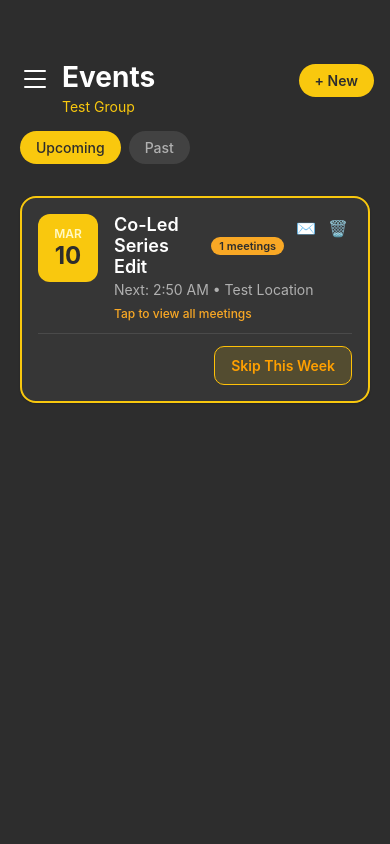
MeetingsScreen › should show edit button for co-leaders in series view modal
Note: Tap on the series card to open series view modal
Click the text "Tap to view all meetings".
click(183, 314)  # box [114,306,252,321]
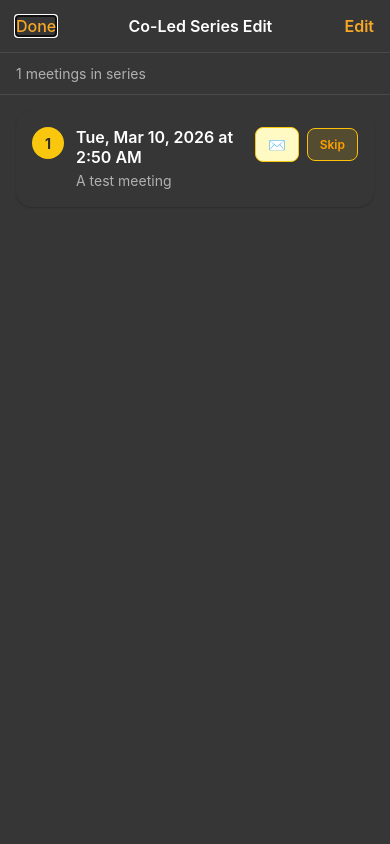
Expected: the text "Edit" is shown, [344,16,374,36]
